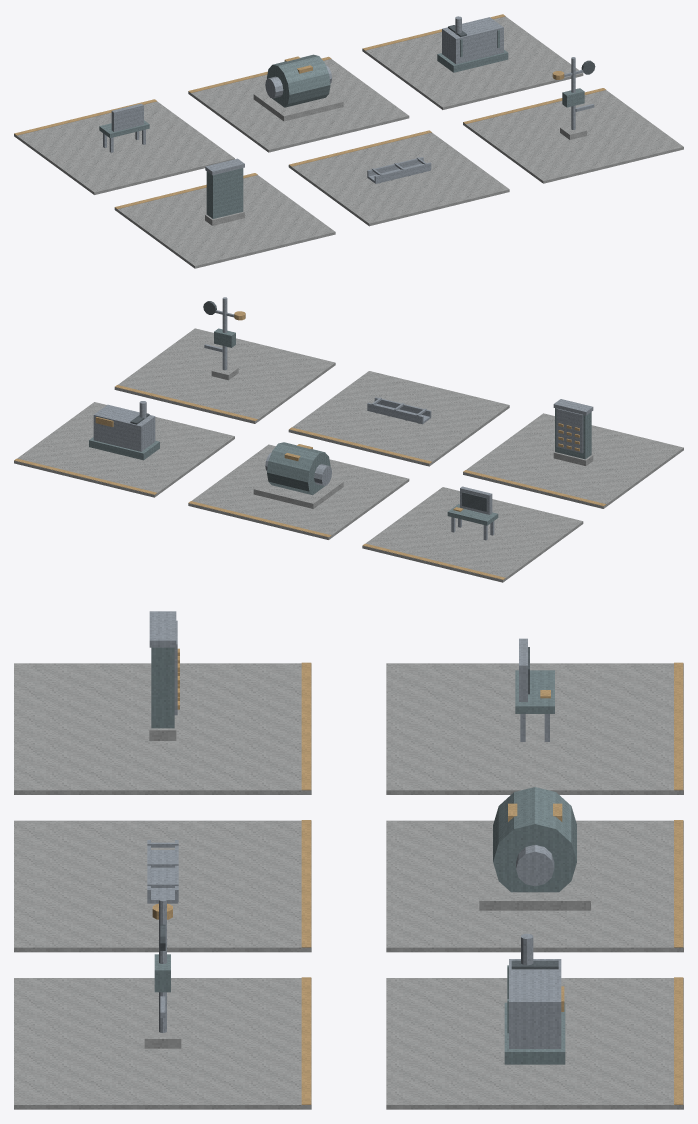
Rendered from level_blockout_kit_wld_09_p01.glb.
The picture shows the model from 3 angles, top to bottom: view 1: azimuth 30°, elevation 25°; view 2: azimuth 150°, elevation 25°; view 3: azimuth 270°, elevation 25°; orthographic projection. The views are drawn at different scales.
Visible parts, largest first — view 1: level_blockout_kit_wld_09_p01; view 2: level_blockout_kit_wld_09_p01; view 3: level_blockout_kit_wld_09_p01.
Part boxes in pixels (x1,y1,x2,y2): level_blockout_kit_wld_09_p01: (14,14,683,268); level_blockout_kit_wld_09_p01: (14,297,683,582); level_blockout_kit_wld_09_p01: (14,611,683,1109).
Size of the model in its own units: 19.65 by 3.04 by 12.6.
5 materials, 5 textured.
